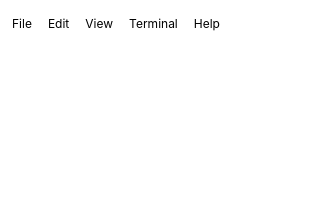
Scenario: MenuBar — dropdowns › switches dropdowns on hover once one is open
Click the button "File": point(22, 24) top-left (4, 16), bottom-right (40, 32)
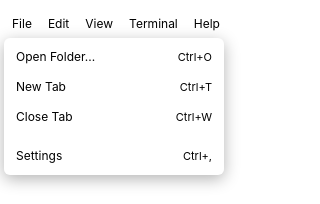
Hover over the button "Edit": point(59, 24) top-left (40, 16), bottom-right (77, 32)
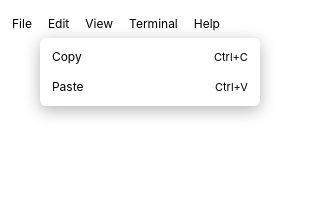
Check: the text "Paste" is shown, box top-left (52, 78), bottom-right (83, 96)
Check: the button "Open Folder..." is gone
